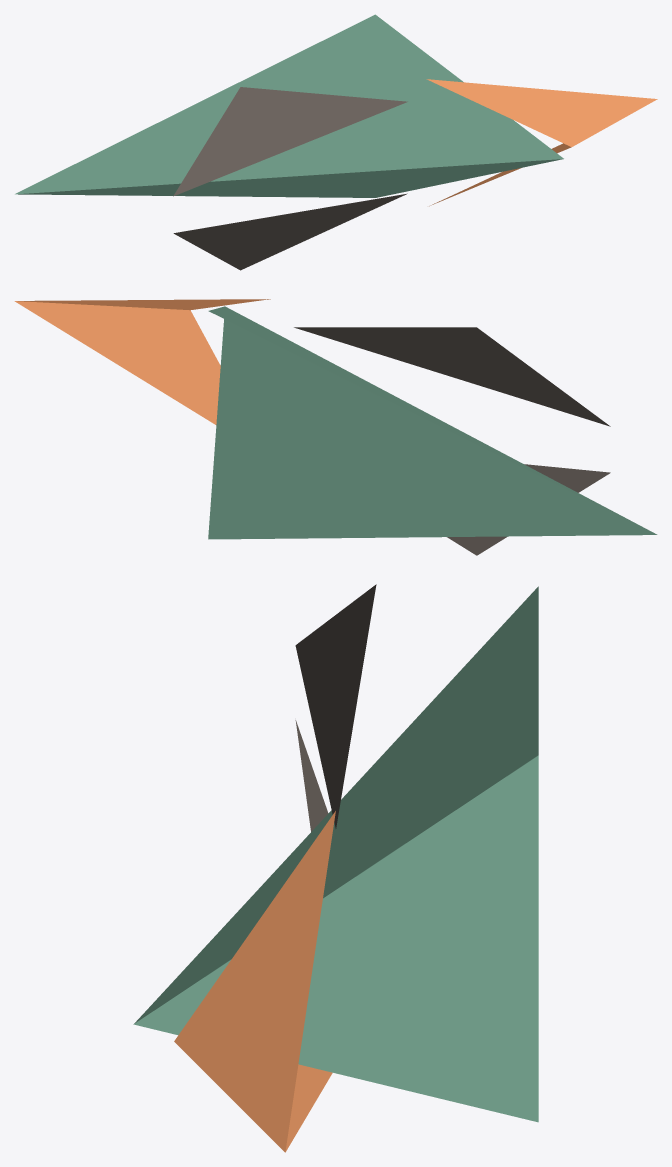
File: duck.glb
3 views of the same model, one above another, from view 1: azimuth 30°, elevation 25°; view 2: azimuth 150°, elevation 25°; view 3: azimuth 270°, elevation 25° (orthographic). The views are drawn at different scales.
Parts seen in each view (by area): view 1: Duck, Plane.001, Beak, Plane; view 2: Duck, Beak, Plane.001, Plane; view 3: Duck, Beak, Plane.001, Plane.
Part boxes in pixels (x1,y1,x2,y2): Duck: [15, 14, 563, 197]; Plane.001: [173, 87, 407, 196]; Beak: [426, 79, 657, 206]; Plane: [173, 193, 407, 270]; Duck: [208, 306, 657, 539]; Beak: [14, 299, 270, 424]; Plane.001: [294, 327, 610, 426]; Plane: [447, 464, 610, 555]; Duck: [133, 586, 538, 1122]; Beak: [174, 811, 335, 1152]; Plane.001: [295, 584, 376, 828]; Plane: [295, 720, 328, 831].
Size of the model in its own units: 0.6621 by 0.2 by 0.2.
